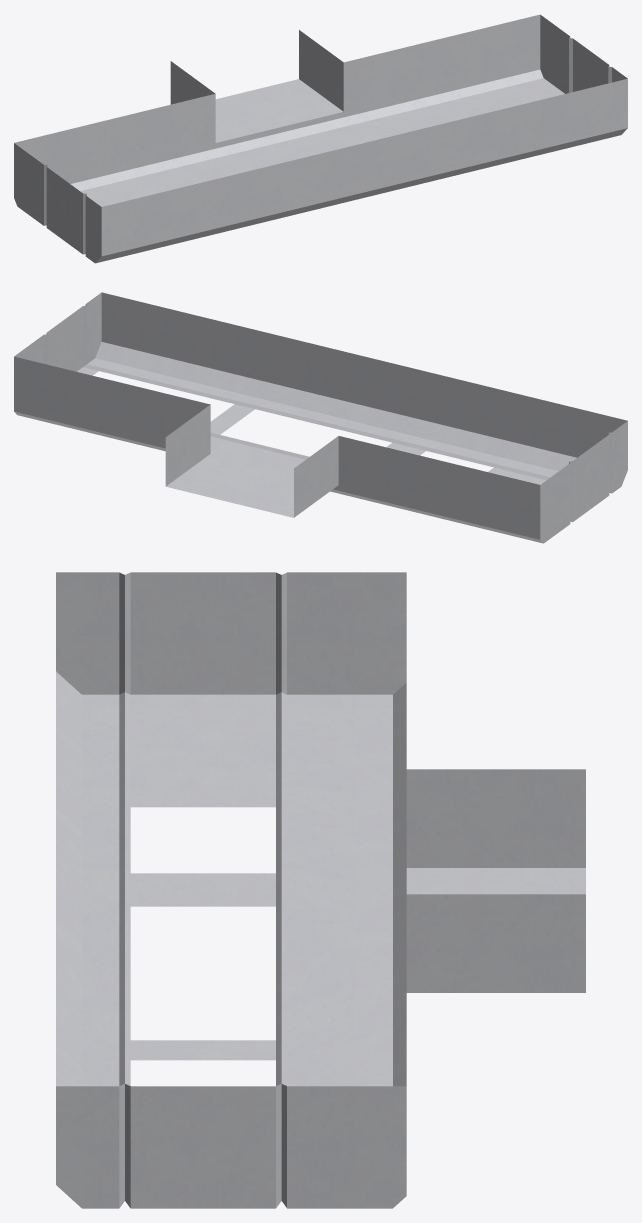
The model's file is SM_Steckdosenbox_04.obj.
The picture shows the model from 3 angles, top to bottom: view 1: azimuth 30°, elevation 25°; view 2: azimuth 150°, elevation 25°; view 3: azimuth 270°, elevation 25°; orthographic projection. The views are drawn at different scales.
Parts seen in each view (by area): view 1: SM_Steckdosenbox_04; view 2: SM_Steckdosenbox_04; view 3: SM_Steckdosenbox_04.
Part boxes in pixels (bbox=[...]): SM_Steckdosenbox_04: bbox=[14, 14, 627, 263]; SM_Steckdosenbox_04: bbox=[14, 292, 627, 543]; SM_Steckdosenbox_04: bbox=[56, 572, 585, 1208].
Size of the model in its own units: 0.5669 by 0.063 by 0.2472.
Materials: 1 (1 with a texture image).
